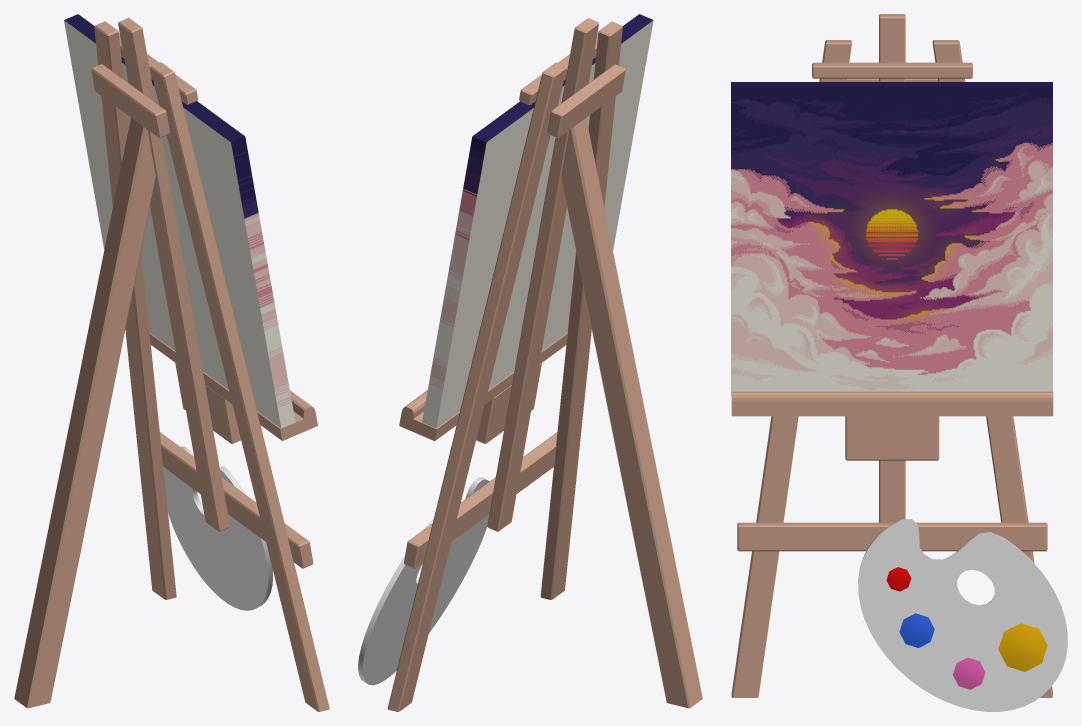
The model's file is eisle.fbx.
3 renders of one model, left to right at view 1: azimuth 30°, elevation 25°; view 2: azimuth 150°, elevation 25°; view 3: azimuth 270°, elevation 25°, orthographic. The views are drawn at different scales.
Visible parts, largest first — view 1: palette.001; view 2: palette.001; view 3: palette.001.
Boxes of the visible parts, x1,y1,x2,y2 form: palette.001: [14, 14, 329, 711]; palette.001: [358, 14, 702, 711]; palette.001: [731, 14, 1067, 711].
Size of the model in its own units: 216 by 517 by 251.
